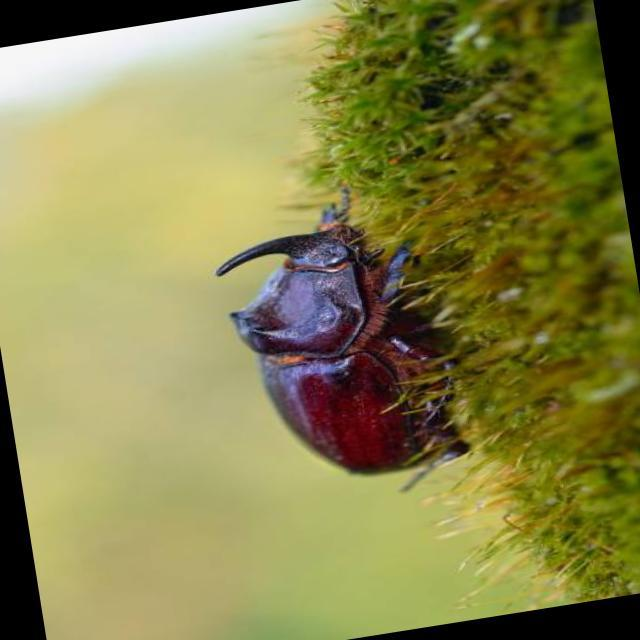Rhino-beetle: (197, 209, 486, 480)
